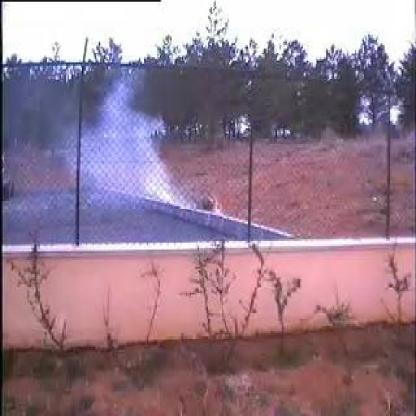-: (60, 68, 190, 210)
